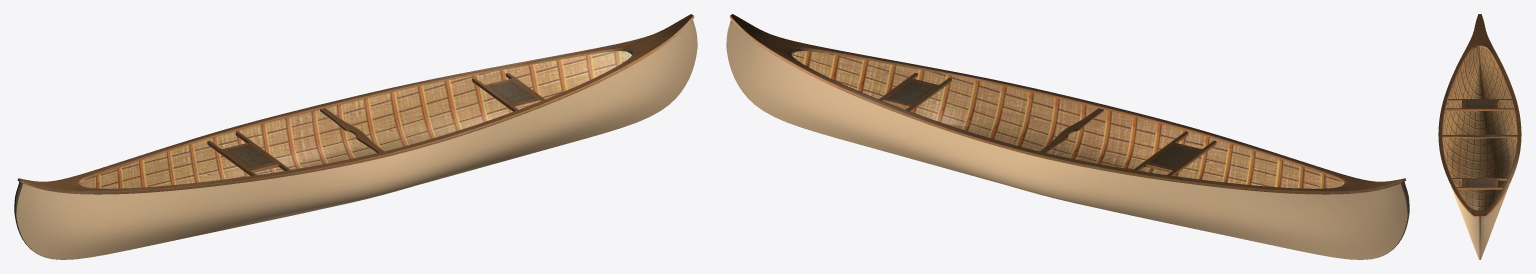
Rendered from 10496_Canoe_v1_L3.fbx.
The picture shows the model from 3 angles, left to right: view 1: azimuth 30°, elevation 25°; view 2: azimuth 150°, elevation 25°; view 3: azimuth 270°, elevation 25°; orthographic projection. The views are drawn at different scales.
Visible parts, largest first — view 1: canoe; view 2: canoe; view 3: canoe.
Part boxes in pixels (<box>): canoe: <box>14,14,697,259</box>; canoe: <box>726,14,1409,259</box>; canoe: <box>1438,14,1521,259</box>.
Size of the model in its own units: 5015 by 728 by 861.
Materials: 1 (1 with a texture image).
